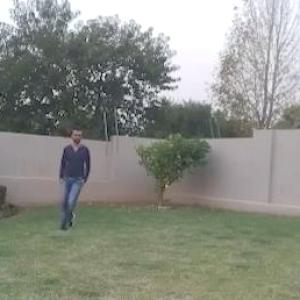follow: (54, 122, 90, 236)
